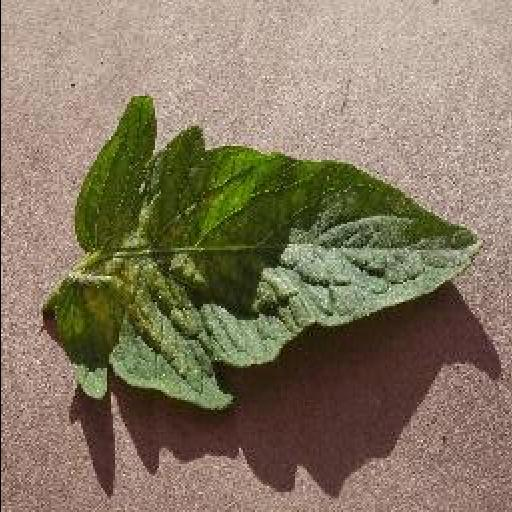disease_tomato: (38, 94, 484, 412)
